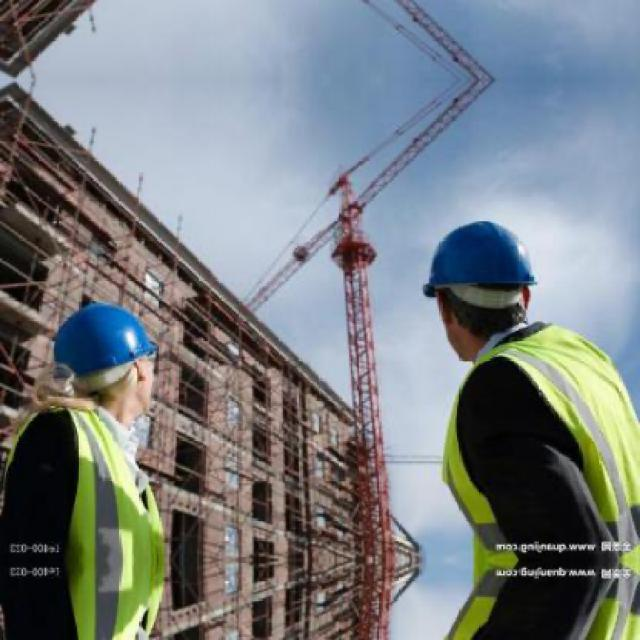helmet: (411, 211, 542, 363), (51, 292, 166, 423)
